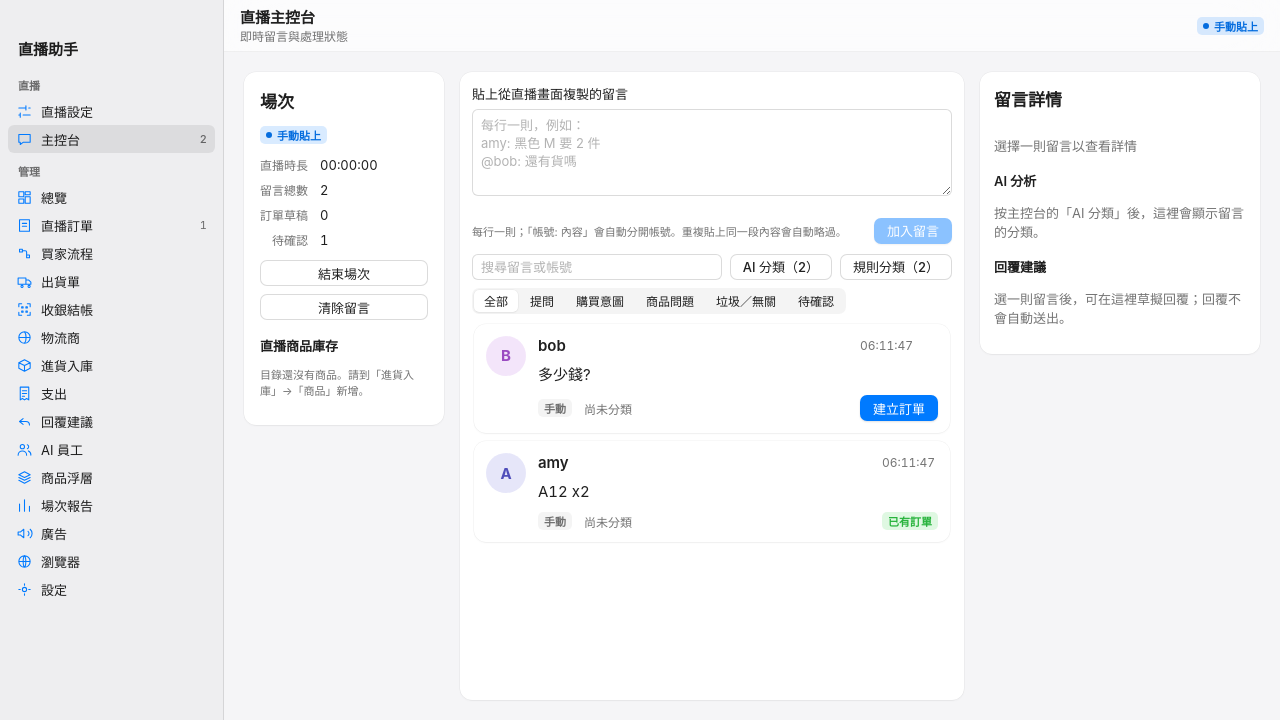
Scenario: Live Assistant UI › AI filters are empty until comments are classified, then use the AI labels
Click the button "購買意圖" at (600, 301), box 566,290 -> 634,312
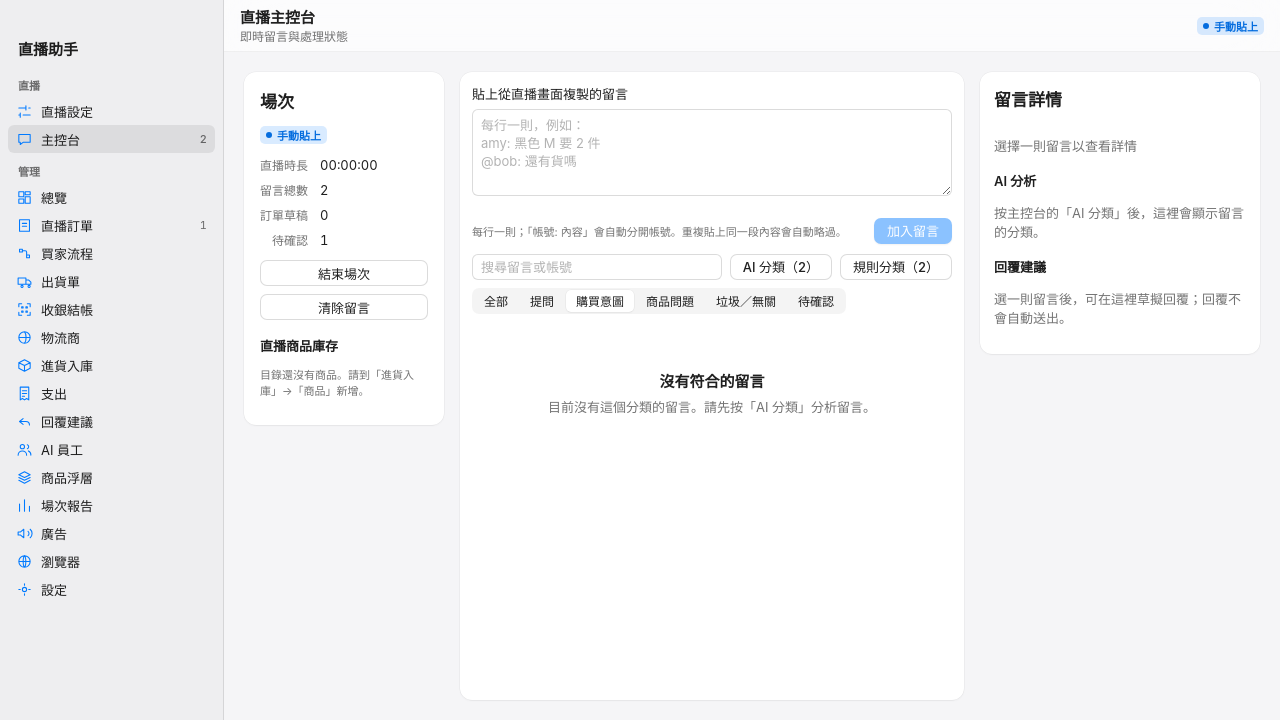
Expected: the text "目前沒有這個分類的留言。請先按「AI 分類」分析留言。" is shown, 548,397 -> 876,416
Click the button "AI 分類（2）" at (781, 267), box 730,254 -> 832,280
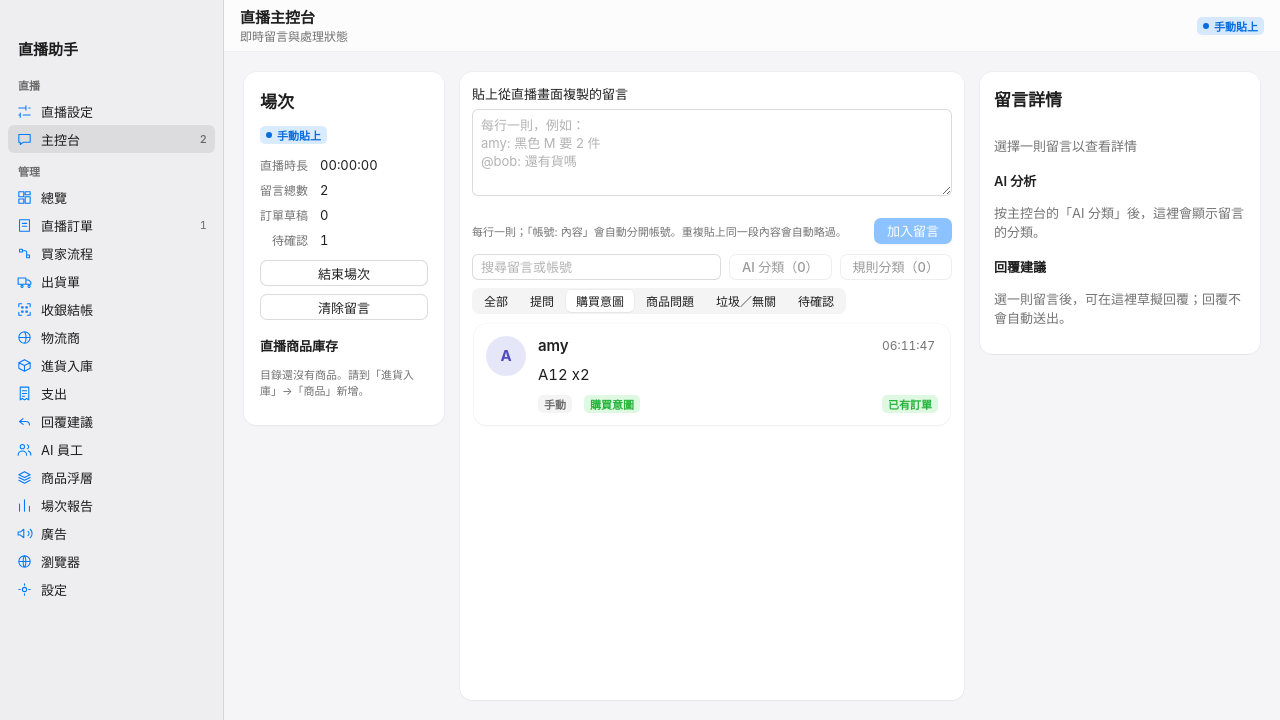
Expected: the text "多少錢?" is not shown
Expected: the text "A12 x2" is shown, 538,359 -> 938,391
Expected: the text "購買意圖" is shown, 584,395 -> 640,413
